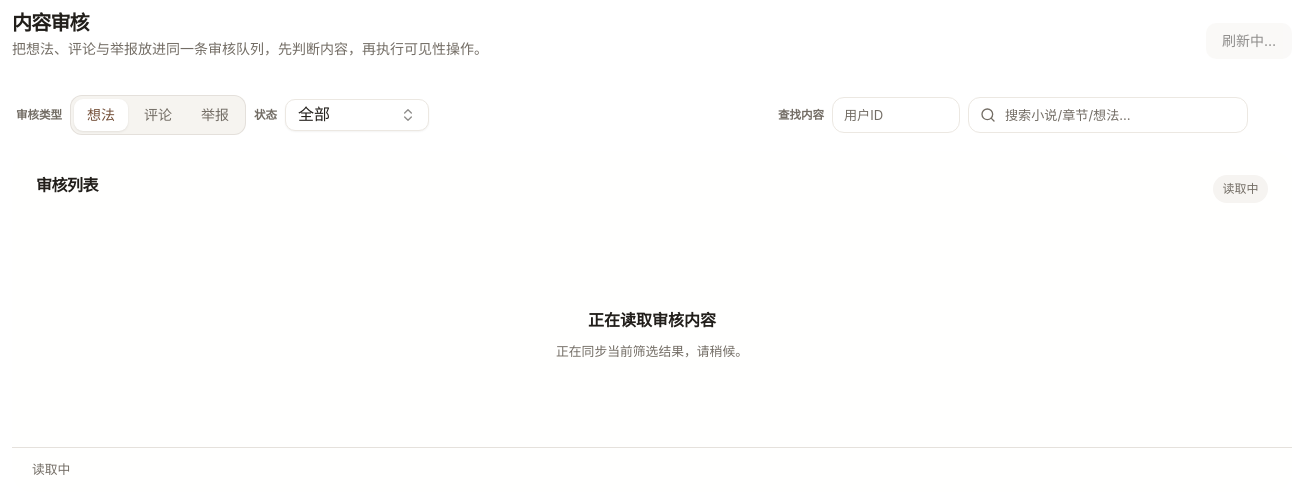
Scenario: 读取过程中切换搜索不会丢查询，旧请求迟到不能回退列表
Type "新" into the search field named "搜索审核内容".
click(1108, 115); type("新")  # box [968,97,1248,133]
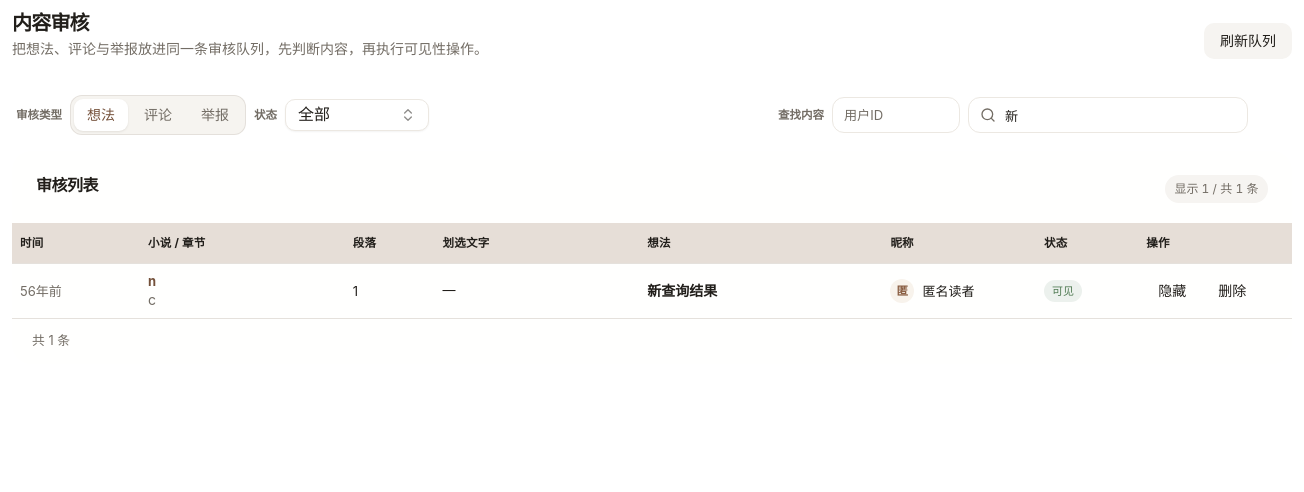
Now the text "新查询结果" is shown, box [647,282,717,299]
